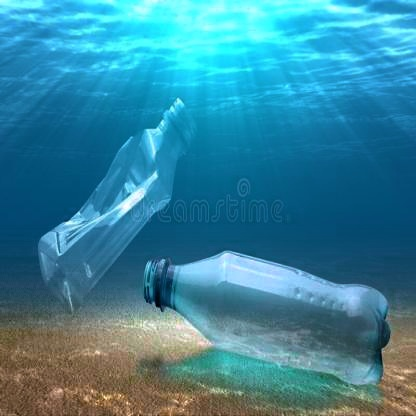pbottle: (36, 97, 196, 316), (143, 250, 391, 385)
